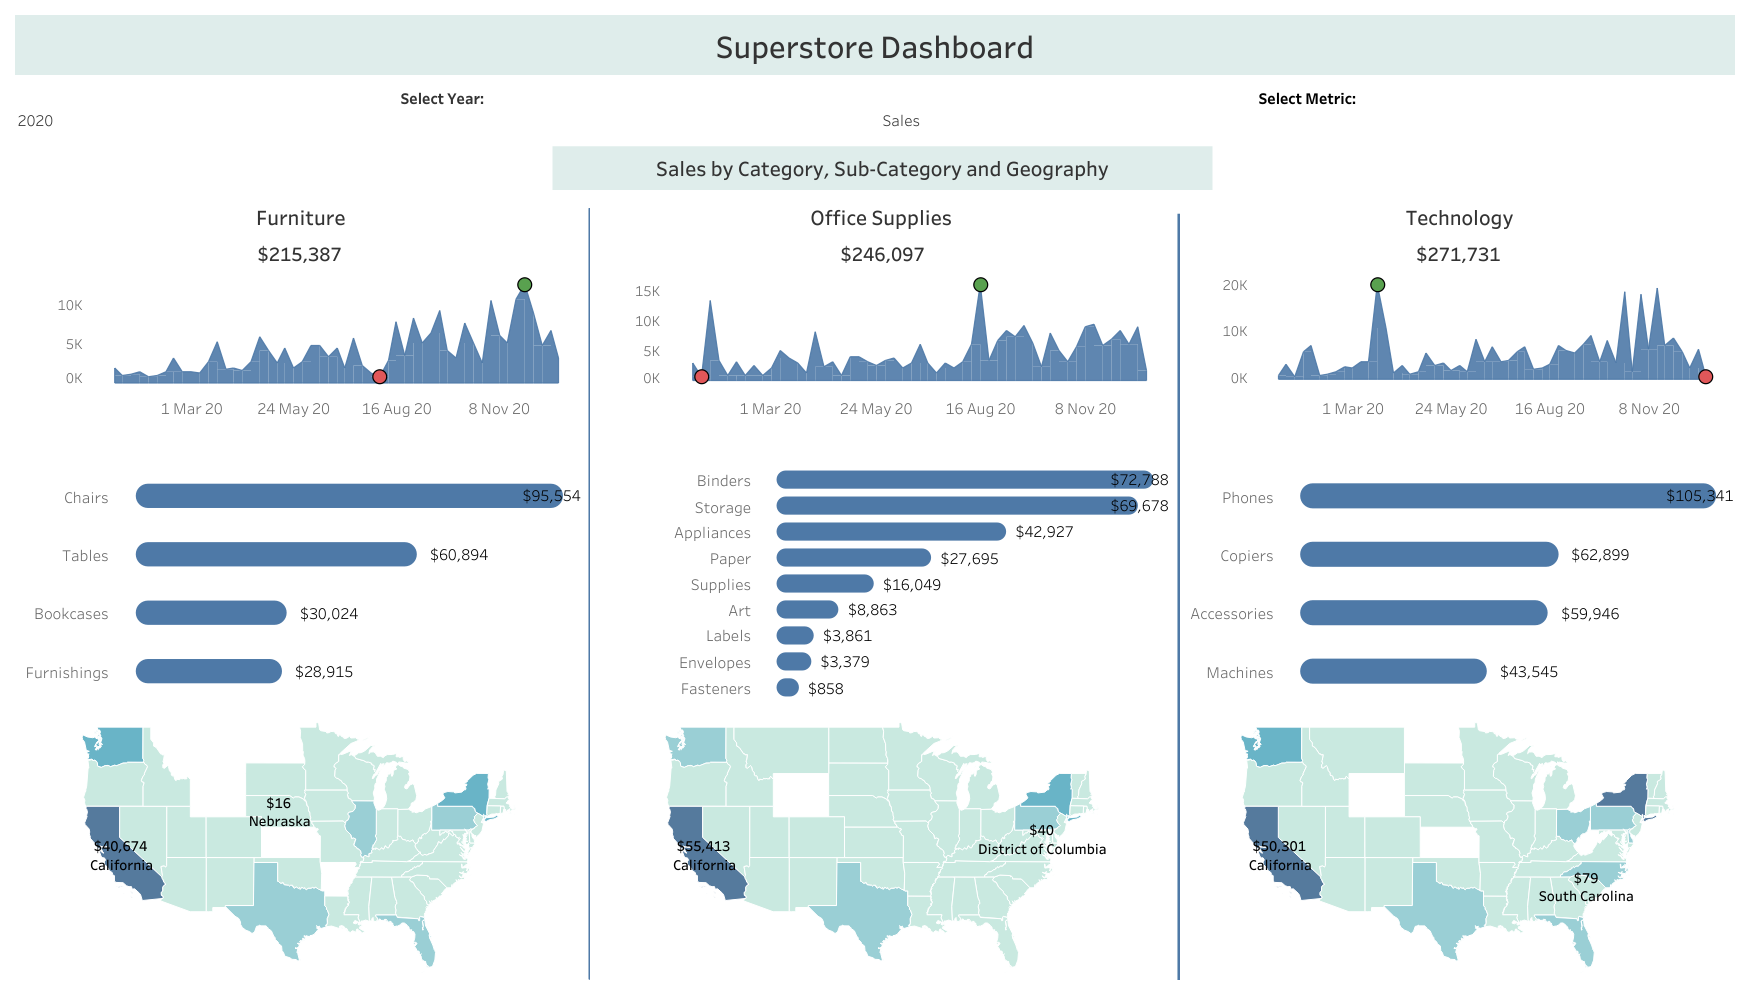

The dashboard page shown, as its layout file describes it:
{"tool":"tableau","page":{"name":"Superstore Dashboard","canvas":[1400,800],"ordinal":0},"visuals":[{"type":"worksheet","title":"Total Sales/Profit Furniture","mark":"Automatic","box":[8,8,462.2,108.4]},{"type":"worksheet","title":"Total Sales/Profit Office Supplies","mark":"Automatic","box":[470.2,8,470.1,68]},{"type":"worksheet","title":"Total Sales/Profit Technology","mark":"Automatic","box":[940.3,8,451.7,68]},{"type":"worksheet","title":"Sales Trend Office Supplies","mark":"Area","rows":["Calculation_695243206596276224"],"cols":["Order Date"],"box":[470.2,76,470.1,267.6]},{"type":"worksheet","title":"Sales Trend Technology","mark":"Area","rows":["Calculation_695243206596276224"],"cols":["Order Date"],"box":[940.3,76,451.7,267.6]},{"type":"worksheet","title":"Sales Trend Furniture","mark":"Circle","rows":["Calculation_695243206596276224"],"cols":["Order Date"],"box":[8,116.4,462.2,227.2]},{"type":"blank","box":[471.3,168,0.9,614]},{"type":"blank","box":[941.7,171,1.9,613]},{"type":"blank","box":[8,343.6,462.2,25.3]},{"type":"blank","box":[470.2,343.6,470.1,25.3]},{"type":"blank","box":[940.3,343.6,451.7,25.3]},{"type":"worksheet","title":"Sales - Furniture","mark":"Line","rows":["Sub-Category"],"box":[8,368.9,462.2,194.6]},{"type":"worksheet","title":"Sales - Office Supplies","mark":"Line","rows":["Sub-Category"],"box":[470.2,368.9,470.1,194.6]},{"type":"worksheet","title":"Sales - Technology","mark":"Line","rows":["Sub-Category"],"box":[940.3,368.9,451.7,194.6]},{"type":"worksheet","title":"Sales Furniture by Region","mark":"Multipolygon","box":[8,563.6,462.2,228.4]},{"type":"worksheet","title":"Sales Office Supplies by Region","mark":"Multipolygon","box":[470.2,563.6,470.1,228.4]},{"type":"worksheet","title":"Sales Technology by Region","mark":"Multipolygon","box":[940.3,563.6,451.7,228.4]}]}

Visuals, with their boxes in screenshot pixels (x1, y1, x2, y2), scaled from the page's 1400x800 canvas onto the 1749x999 screenshot:
"Total Sales/Profit Furniture" worksheet: locate(10, 10, 587, 145)
"Total Sales/Profit Office Supplies" worksheet: locate(587, 10, 1175, 95)
"Total Sales/Profit Technology" worksheet: locate(1175, 10, 1739, 95)
"Sales Trend Office Supplies" worksheet (Area marks): locate(587, 95, 1175, 429)
"Sales Trend Technology" worksheet (Area marks): locate(1175, 95, 1739, 429)
"Sales Trend Furniture" worksheet (Circle marks): locate(10, 145, 587, 429)
blank: locate(589, 210, 590, 977)
blank: locate(1176, 214, 1179, 979)
blank: locate(10, 429, 587, 461)
blank: locate(587, 429, 1175, 461)
blank: locate(1175, 429, 1739, 461)
"Sales - Furniture" worksheet (Line marks): locate(10, 461, 587, 704)
"Sales - Office Supplies" worksheet (Line marks): locate(587, 461, 1175, 704)
"Sales - Technology" worksheet (Line marks): locate(1175, 461, 1739, 704)
"Sales Furniture by Region" worksheet (Multipolygon marks): locate(10, 704, 587, 989)
"Sales Office Supplies by Region" worksheet (Multipolygon marks): locate(587, 704, 1175, 989)
"Sales Technology by Region" worksheet (Multipolygon marks): locate(1175, 704, 1739, 989)
